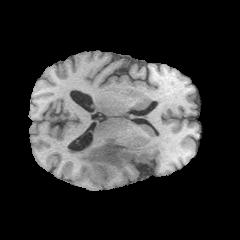glioma: (67, 137, 127, 176)
